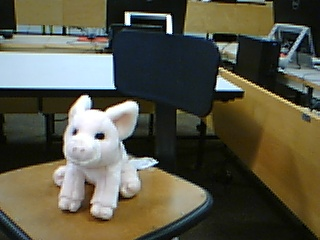piggy: (51, 92, 143, 221)
